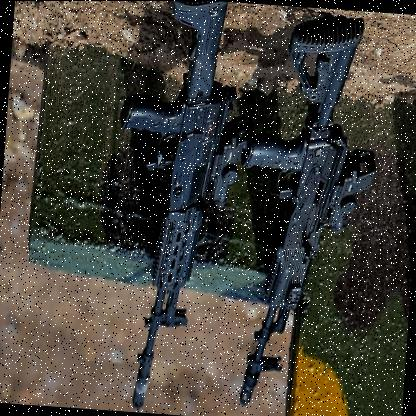rifle: (91, 0, 237, 411), (230, 19, 374, 415)
